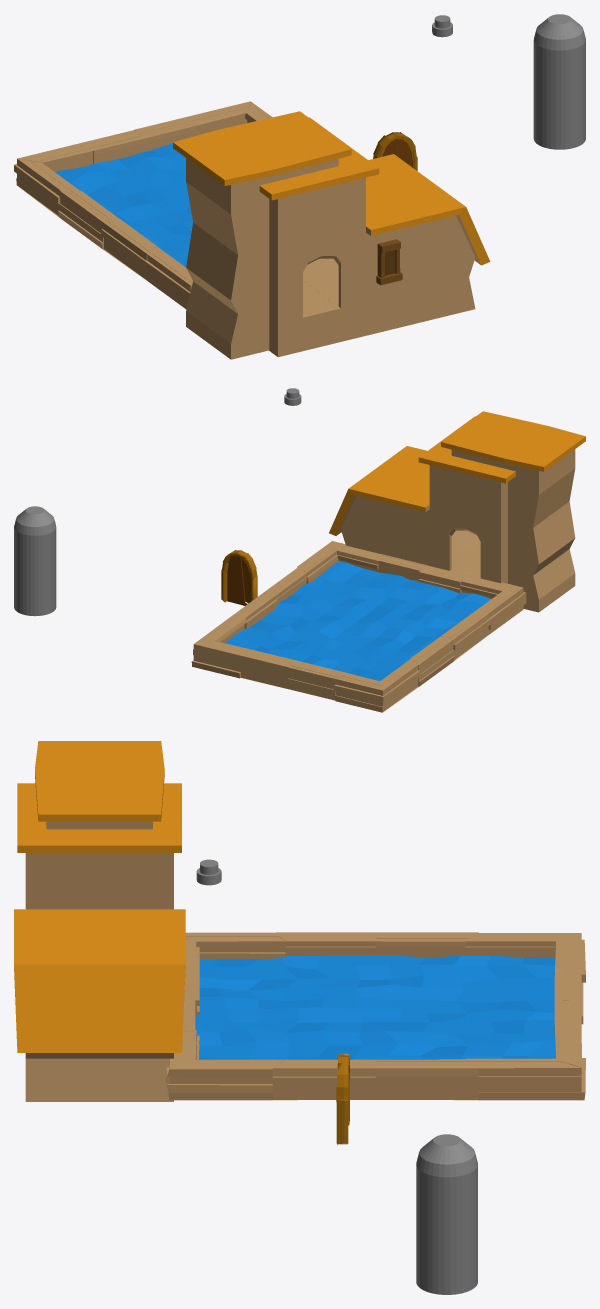
The model's file is Pool_House1.fbx.
3 views of the same model, one above another, from view 1: azimuth 30°, elevation 25°; view 2: azimuth 150°, elevation 25°; view 3: azimuth 270°, elevation 25° (orthographic). The views are drawn at different scales.
Parts seen in each view (by area): view 1: Cube.002, Cube, Cube.001, Cylinder.002, Cube.019, Cube.466; view 2: Cube.002, Cube, Cube.001, Cylinder.002, Cube.466; view 3: Cube.002, Cube.001, Cube, Cylinder.002, Cube.466.
Part boxes in pixels (x1,y1,x2,y2): Cube.002: [173, 111, 490, 359]; Cube: [14, 101, 272, 309]; Cube.001: [55, 143, 192, 266]; Cylinder.002: [533, 14, 585, 149]; Cube.019: [376, 239, 402, 285]; Cube.466: [373, 132, 417, 170]; Cube.002: [329, 411, 585, 612]; Cube: [191, 541, 526, 712]; Cube.001: [225, 561, 491, 681]; Cylinder.002: [14, 506, 56, 616]; Cube.466: [221, 550, 257, 605]; Cube.002: [14, 741, 185, 1101]; Cube.001: [195, 955, 555, 1059]; Cube: [166, 932, 585, 1100]; Cylinder.002: [416, 1134, 477, 1294]; Cube.466: [336, 1053, 349, 1144].
Size of the model in its own units: 2342 by 1042 by 1846.
